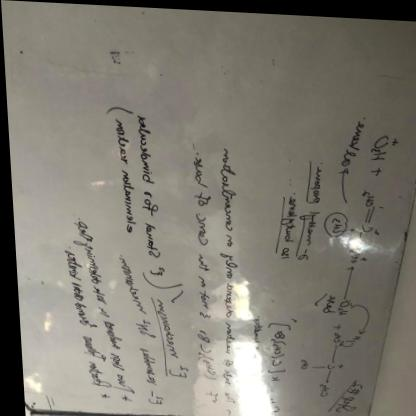Handwritten text: (64, 209, 133, 400), (205, 137, 247, 406), (47, 238, 109, 398), (182, 152, 213, 309), (132, 107, 161, 258), (109, 115, 137, 239), (294, 160, 323, 245), (114, 252, 145, 315), (273, 189, 296, 264), (335, 113, 366, 167), (149, 294, 175, 358), (133, 341, 156, 387), (325, 390, 360, 414), (317, 290, 332, 313), (200, 386, 216, 406)
Whiteboard: (0, 0, 416, 416)
